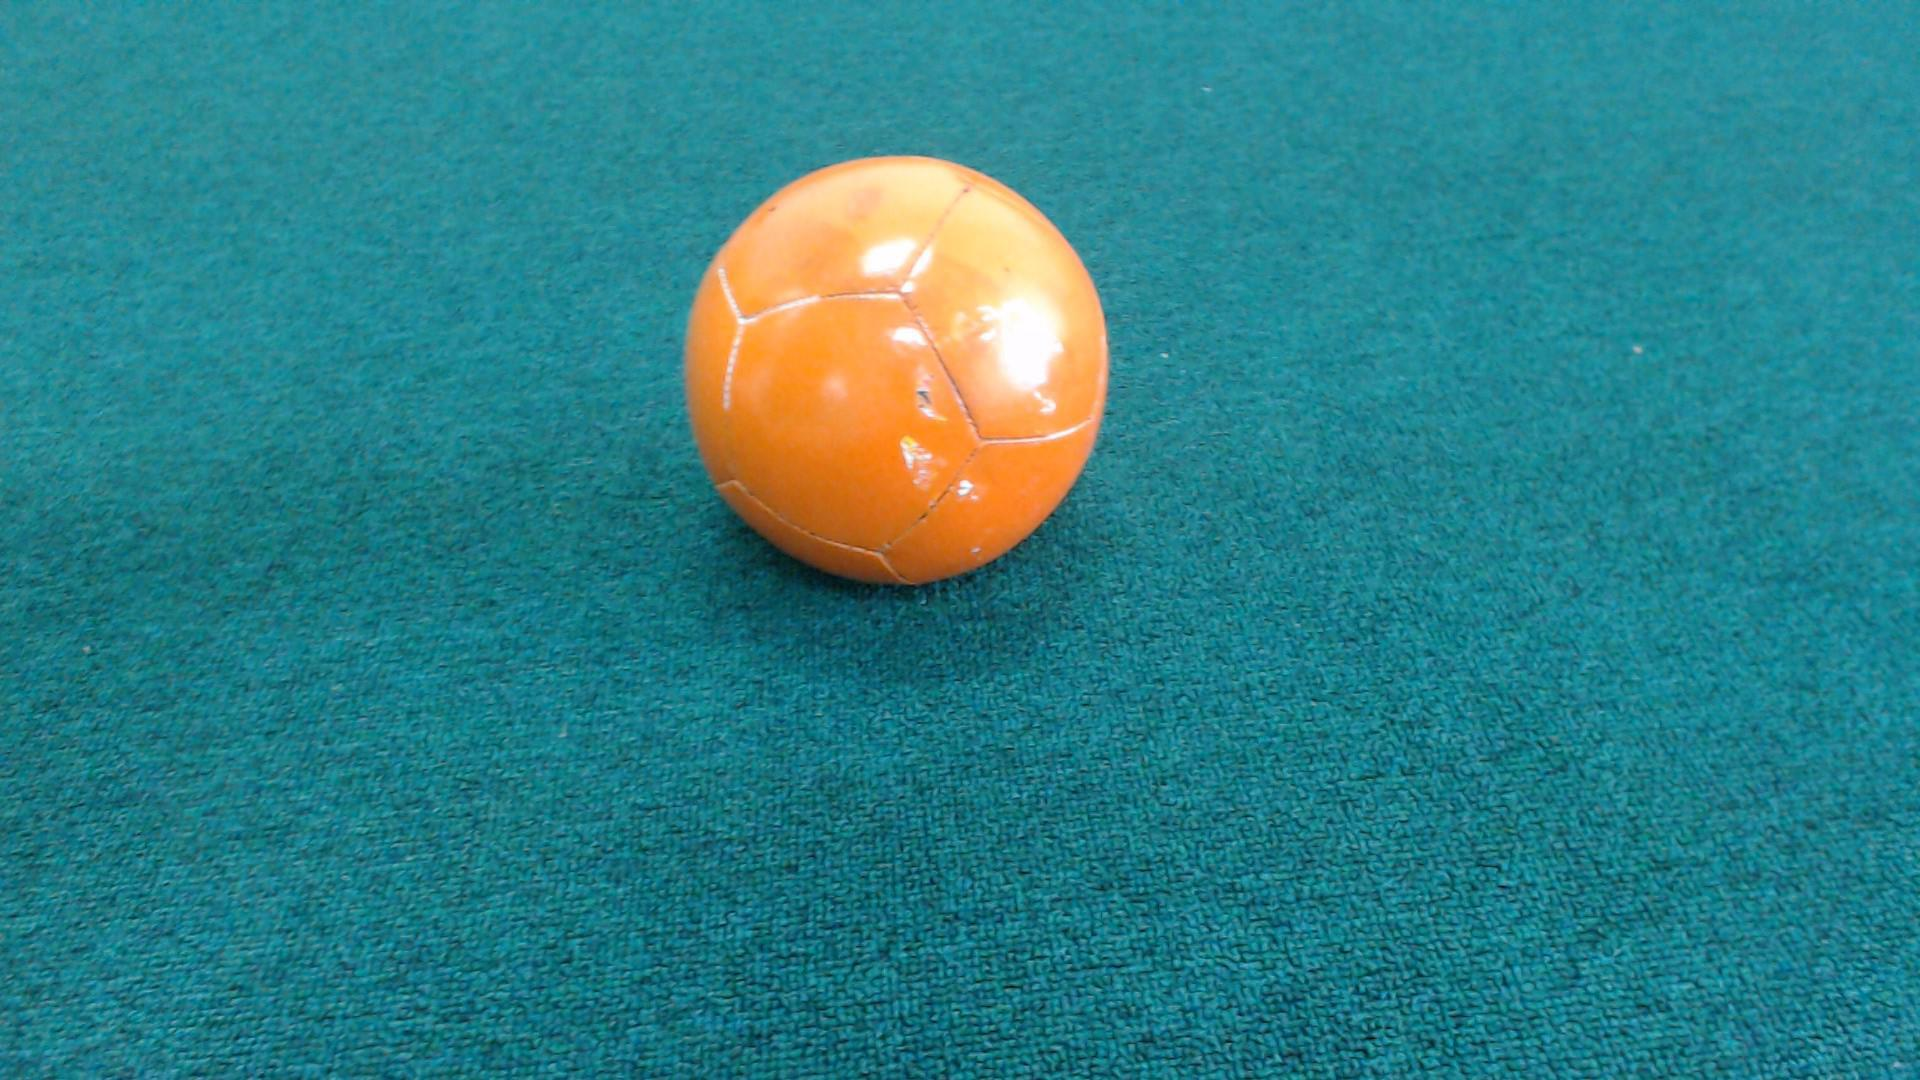bola: (651, 156, 1138, 578)
